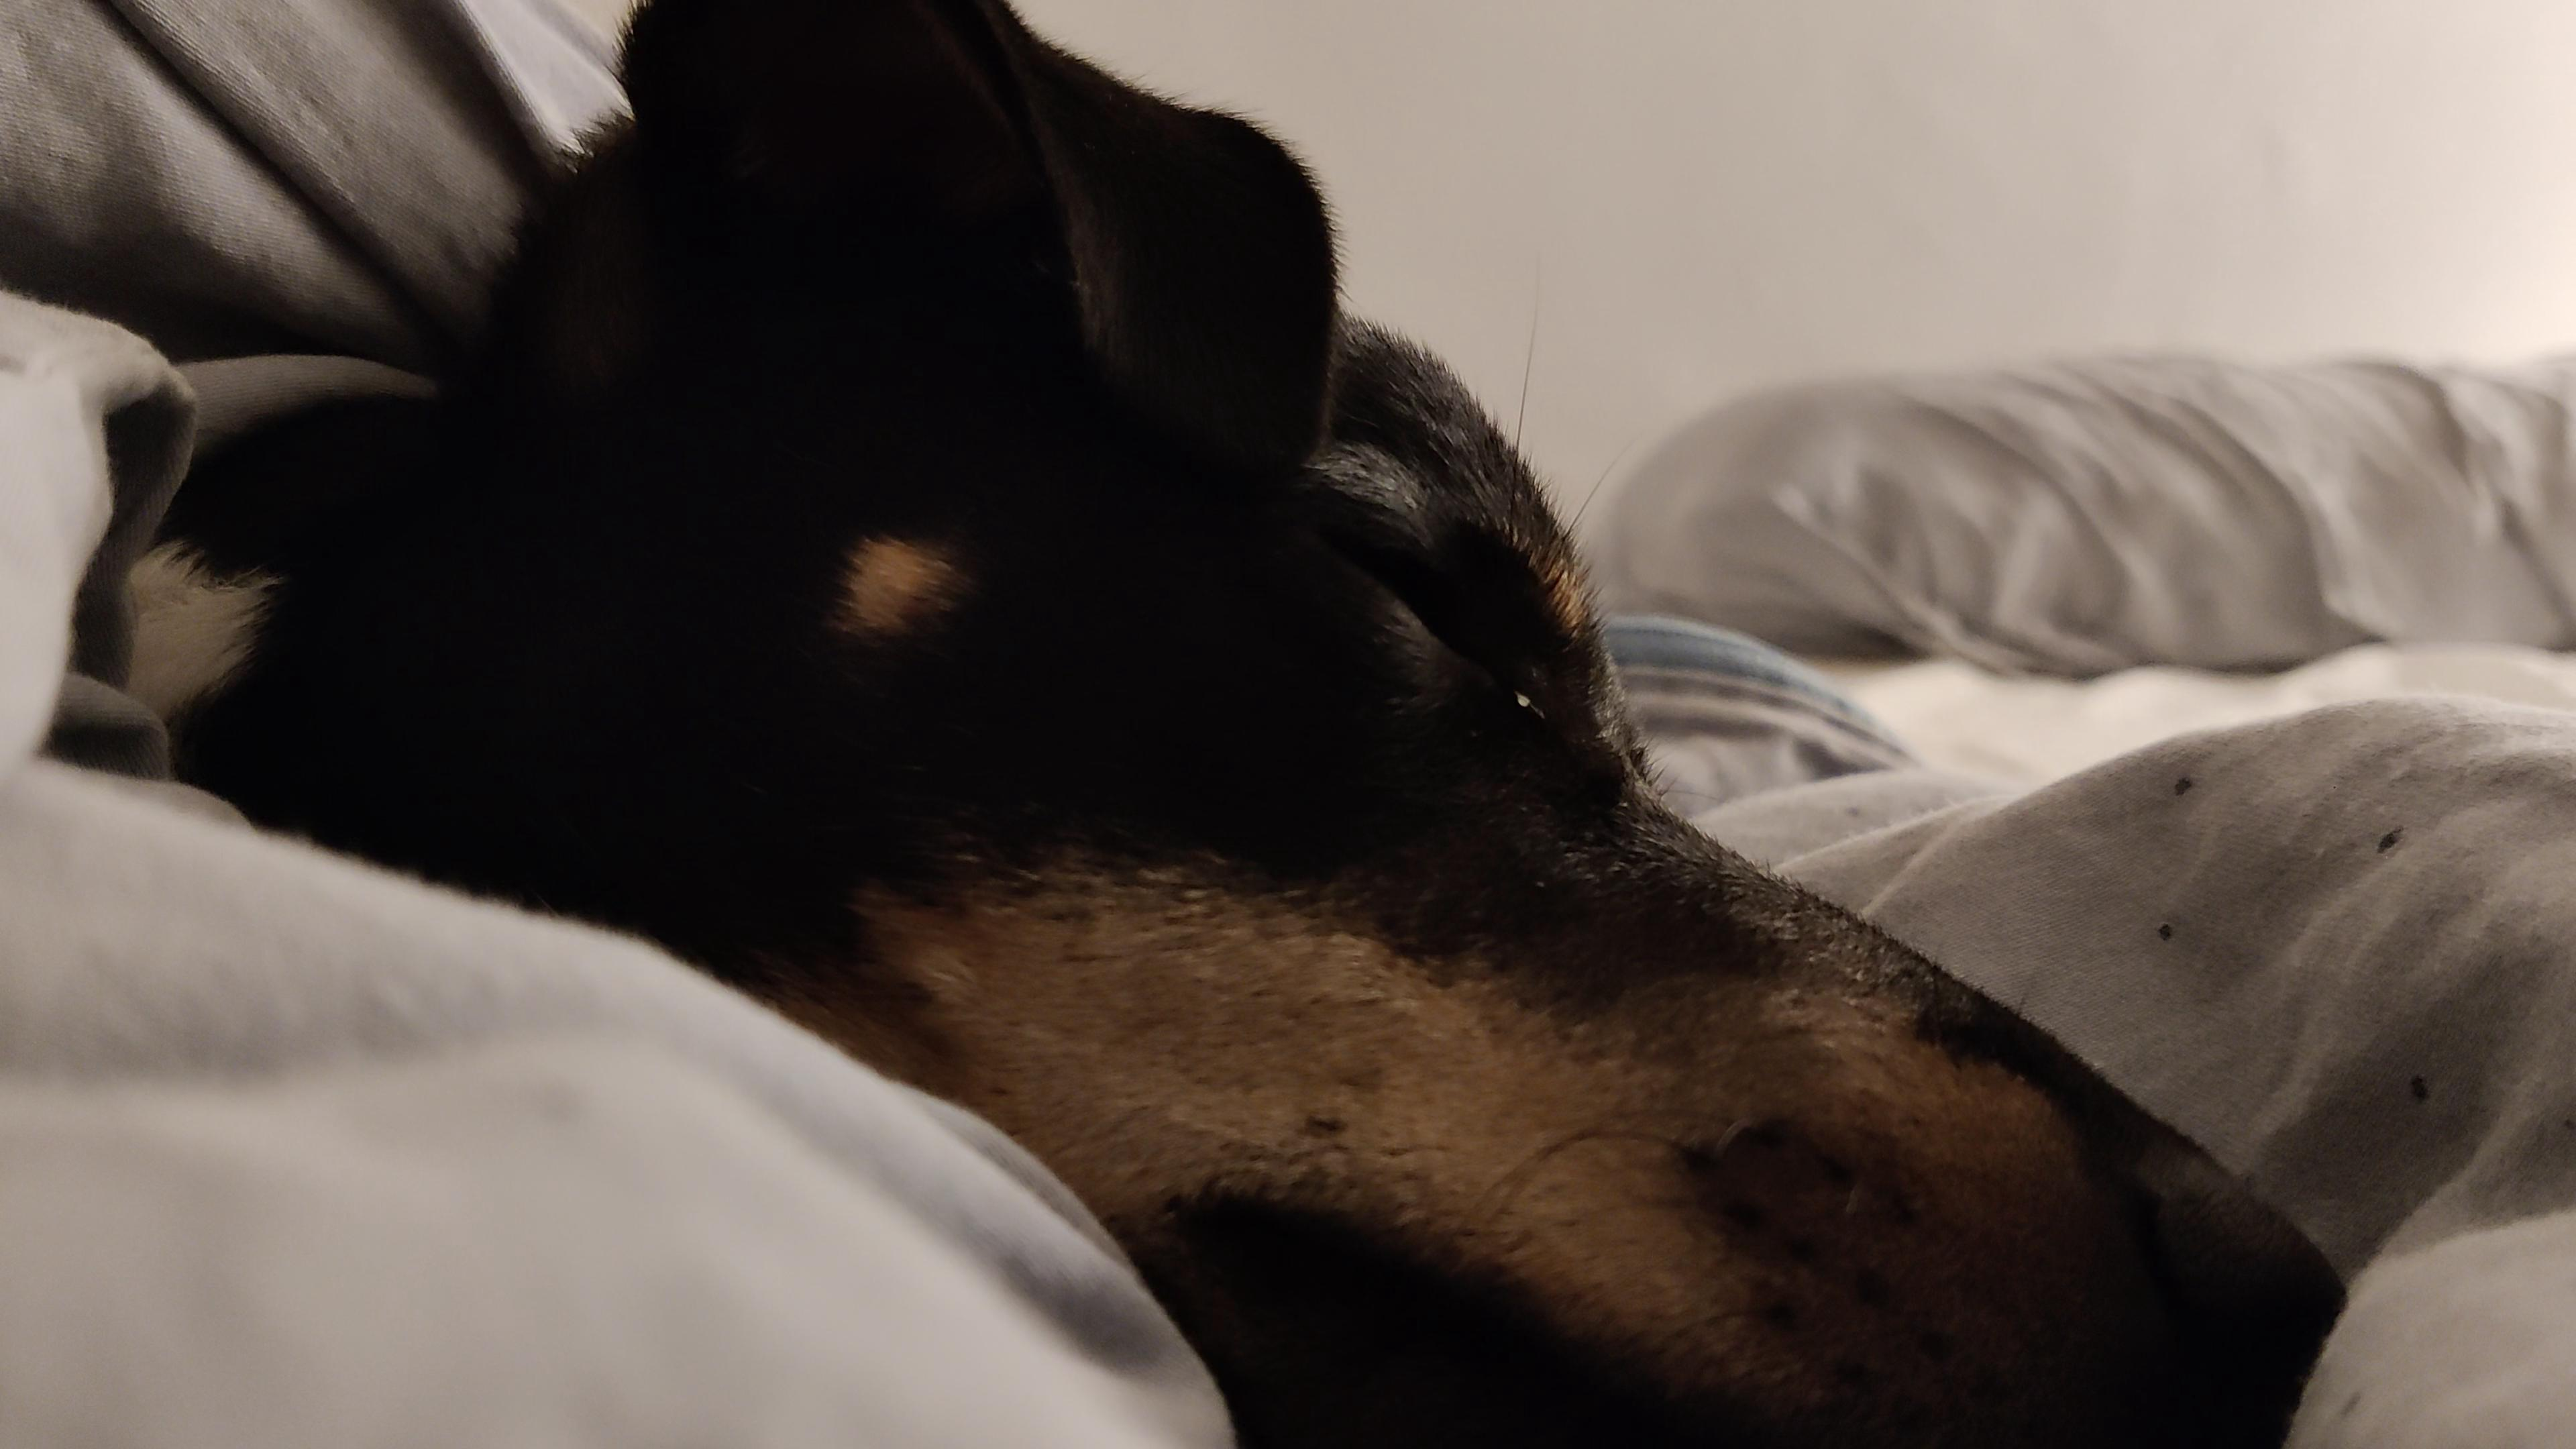Dog: (106, 0, 2350, 1449)
